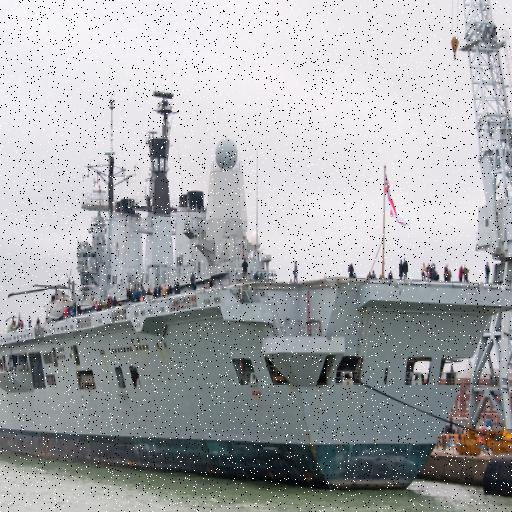Portanaves: (1, 88, 512, 497)
